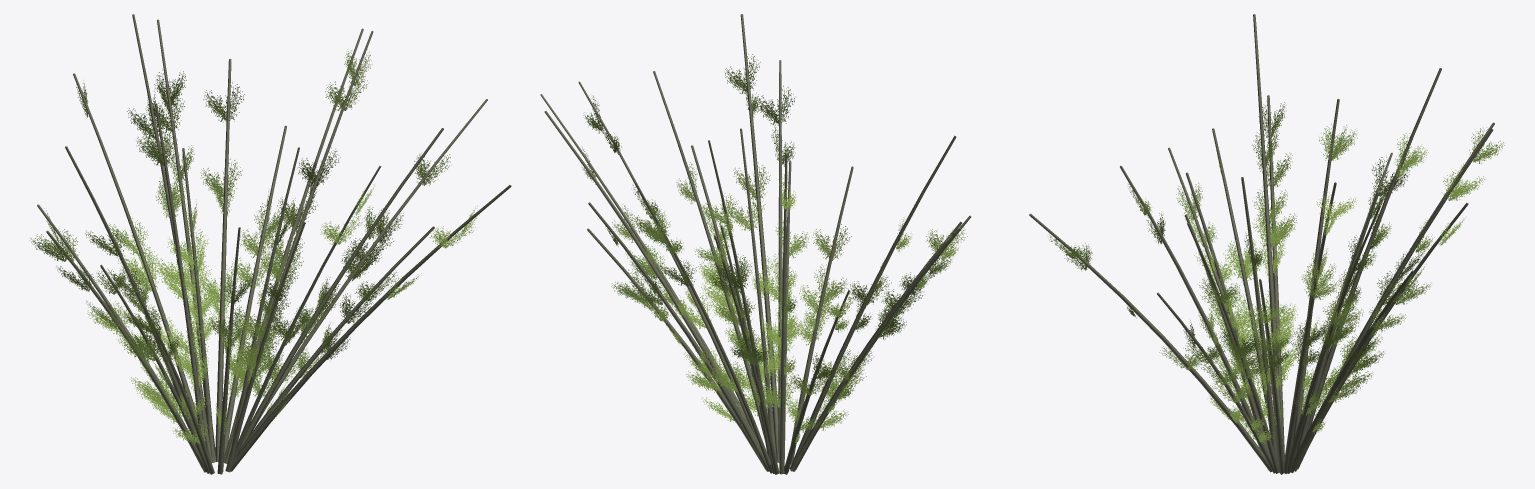
The model's file is veg_ocotillo_a.fbx.
3 views of the same model, side by side, from view 1: azimuth 30°, elevation 25°; view 2: azimuth 150°, elevation 25°; view 3: azimuth 270°, elevation 25° (orthographic). The views are drawn at different scales.
Parts seen in each view (by area): view 1: veg_ocotillo_a_LOD0; view 2: veg_ocotillo_a_LOD0; view 3: veg_ocotillo_a_LOD0.
Boxes of the visible parts, x1,y1,x2,y2 form: veg_ocotillo_a_LOD0: (29, 14, 511, 474); veg_ocotillo_a_LOD0: (540, 14, 971, 474); veg_ocotillo_a_LOD0: (1029, 14, 1504, 474).
Size of what is drawn, in the model's own units: 4.89 by 4.04 by 4.6.
Materials: 2 (2 with a texture image).
